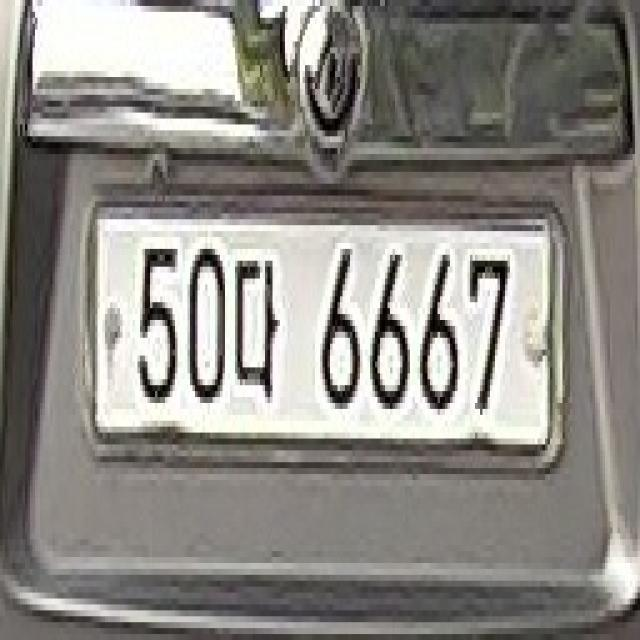0: (183, 247, 228, 407)
5: (135, 240, 181, 403)
6: (315, 240, 362, 423), (420, 247, 462, 423), (370, 247, 413, 418)
7: (466, 250, 514, 420)
da: (233, 251, 287, 411)
license_plate: (78, 194, 566, 484)
